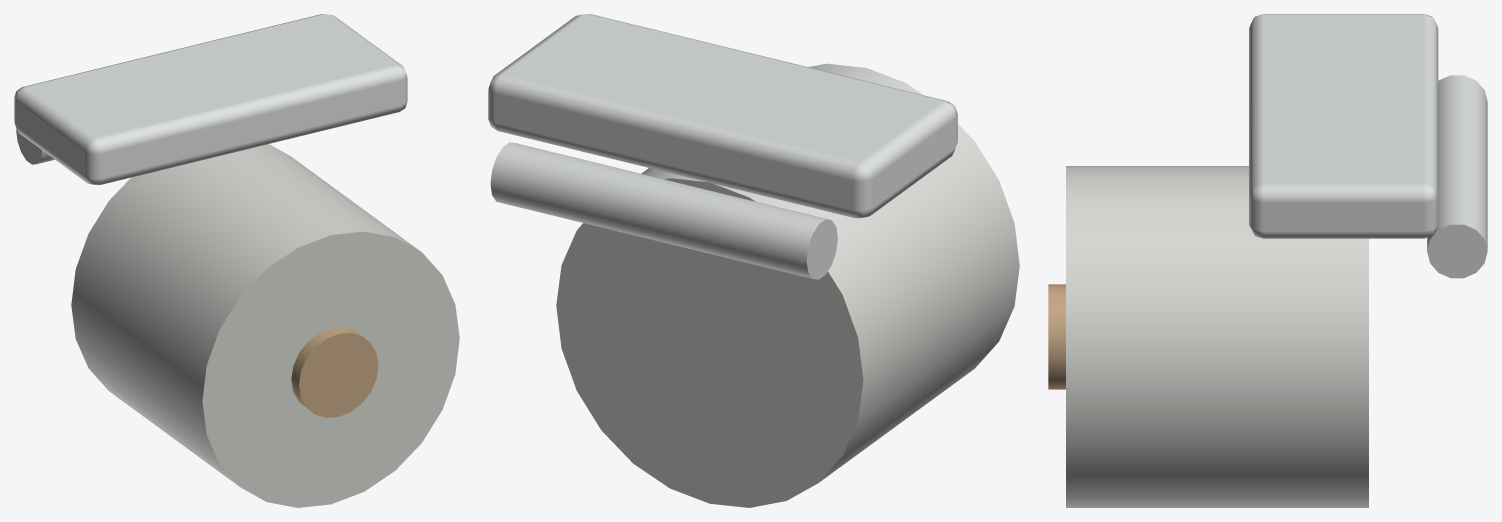
Rendered from toilet_paper01.glb.
3 renders of one model, left to right at view 1: azimuth 30°, elevation 25°; view 2: azimuth 150°, elevation 25°; view 3: azimuth 270°, elevation 25°, orthographic. The views are drawn at different scales.
Parts seen in each view (by area): view 1: spool, holder, core, hinge; view 2: spool, holder, hinge; view 3: spool, holder, hinge, core.
Boxes of the visible parts, x1=… form: spool: x1=71, y1=144, x2=459, y2=507; holder: x1=14, y1=14, x2=407, y2=185; core: x1=291, y1=327, x2=378, y2=417; hinge: x1=16, y1=129, x2=54, y2=164; spool: x1=556, y1=63, x2=1019, y2=507; holder: x1=488, y1=14, x2=957, y2=218; hinge: x1=490, y1=142, x2=837, y2=279; spool: x1=1066, y1=166, x2=1368, y2=507; holder: x1=1249, y1=14, x2=1438, y2=238; hinge: x1=1427, y1=75, x2=1487, y2=278; core: x1=1048, y1=284, x2=1065, y2=389.
Bounding box in the file's own units: 0.17 × 0.172 × 0.174.
